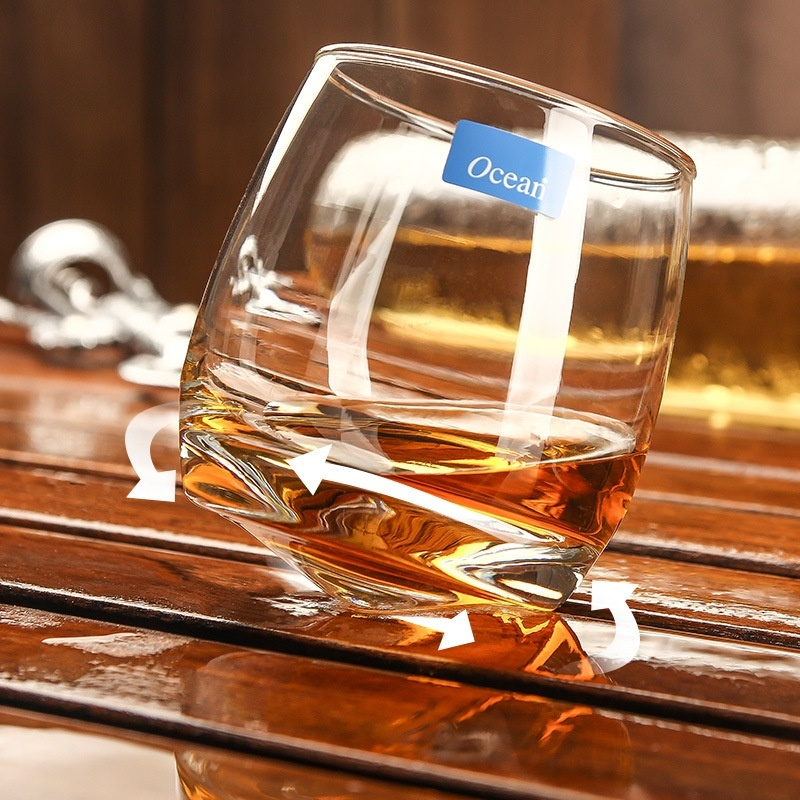whiskey: (180, 43, 693, 635)
